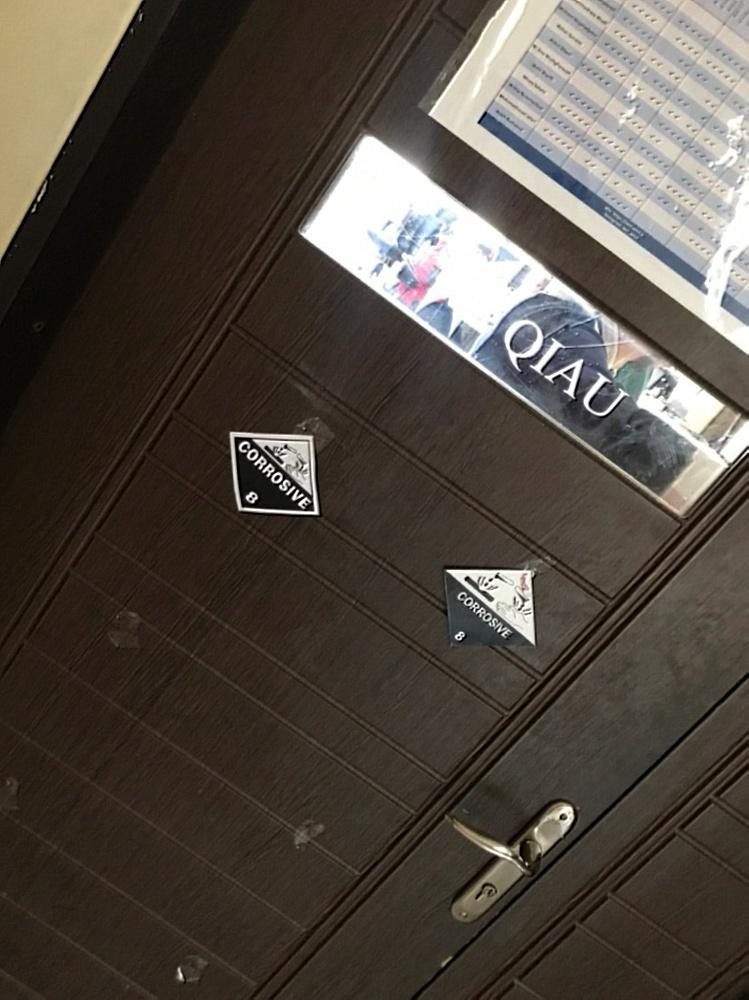corrosive: (443, 565, 542, 653), (229, 429, 324, 519)
